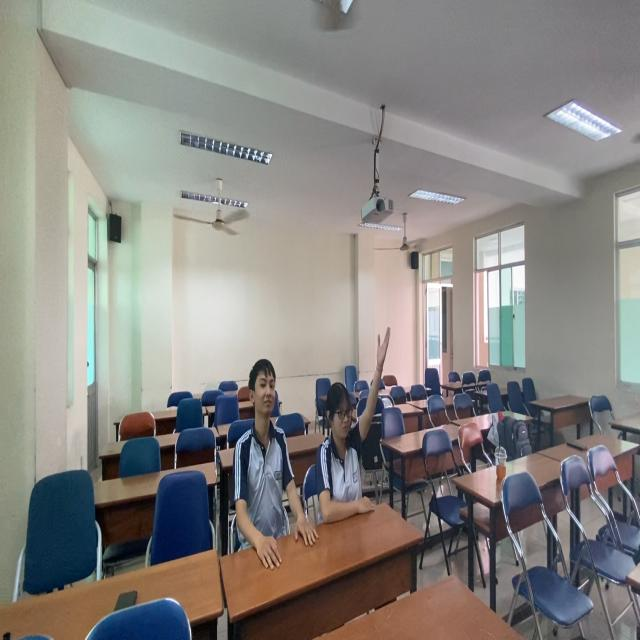raise_hand: (319, 325, 395, 524)
